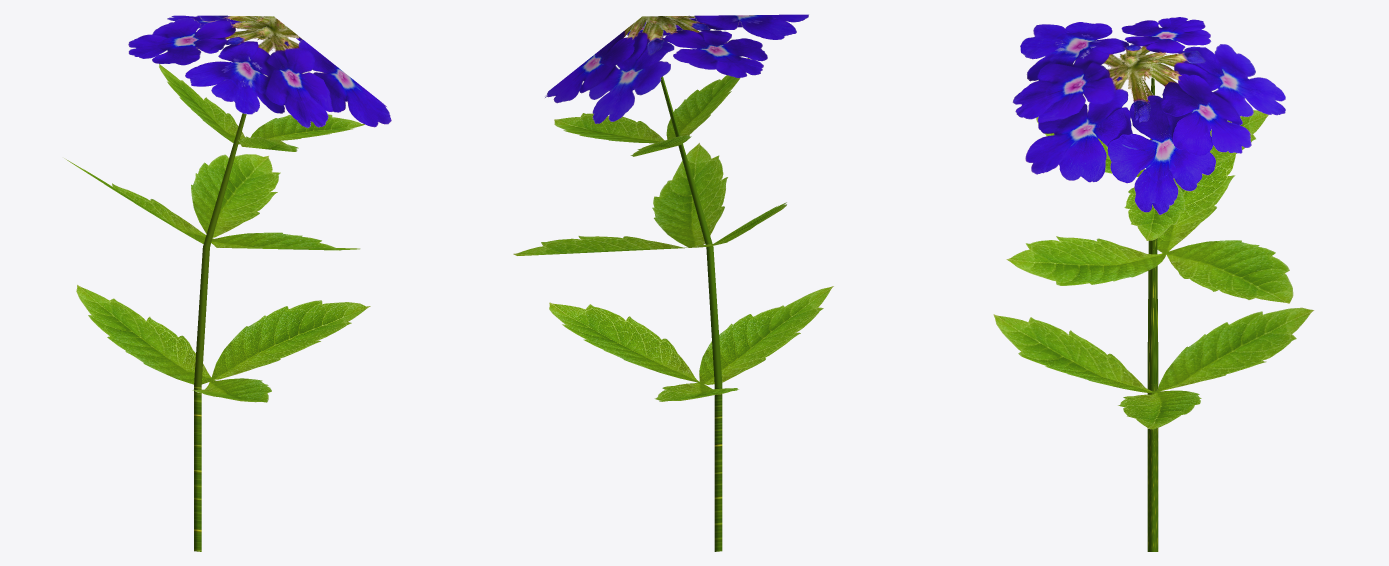
Rendered from Interactable-Flower.fbx.
3 renders of one model, left to right at view 1: azimuth 30°, elevation 25°; view 2: azimuth 150°, elevation 25°; view 3: azimuth 270°, elevation 25°, orthographic.
Parts seen in each view (by area): view 1: Interactable-Flower; view 2: Interactable-Flower; view 3: Interactable-Flower.
Part boxes in pixels (<box>): Interactable-Flower: <box>64,15,391,551</box>; Interactable-Flower: <box>513,14,833,551</box>; Interactable-Flower: <box>993,17,1314,551</box>.
Size of the model in its own units: 25.7 by 33.47 by 25.72.
